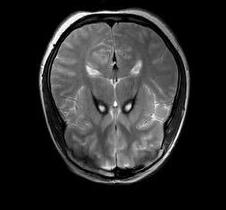Normal_Brain: (1, 1, 226, 210)
